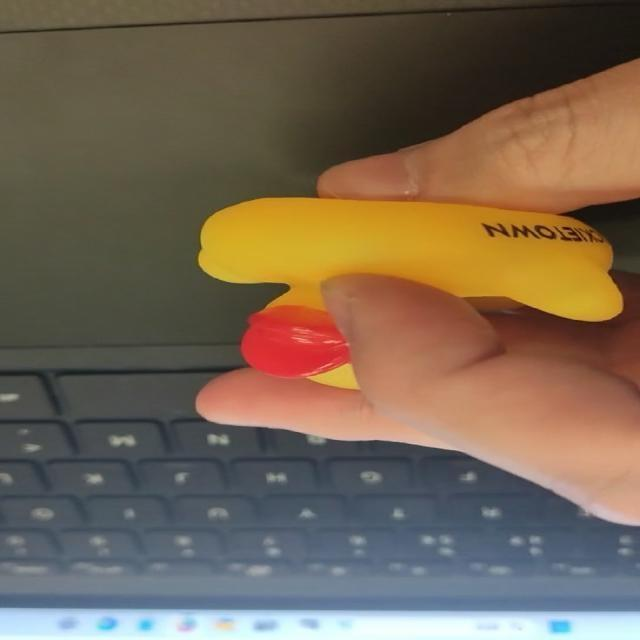rubber-duck: (198, 197, 621, 387)
